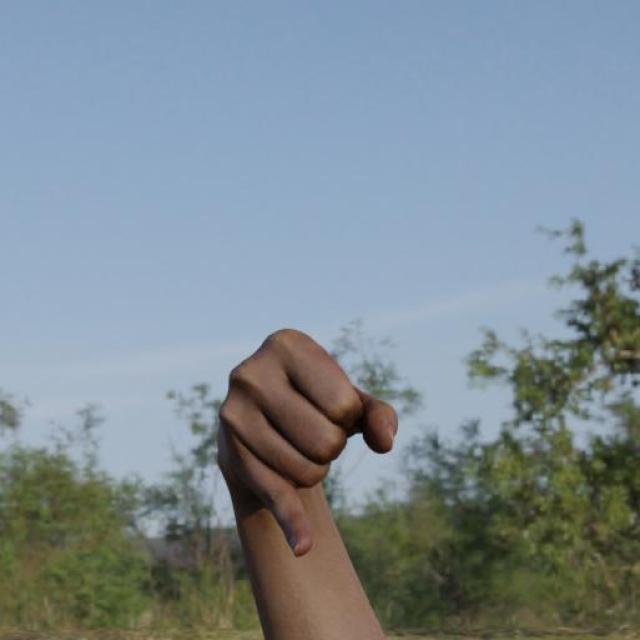J: (216, 324, 403, 564)
